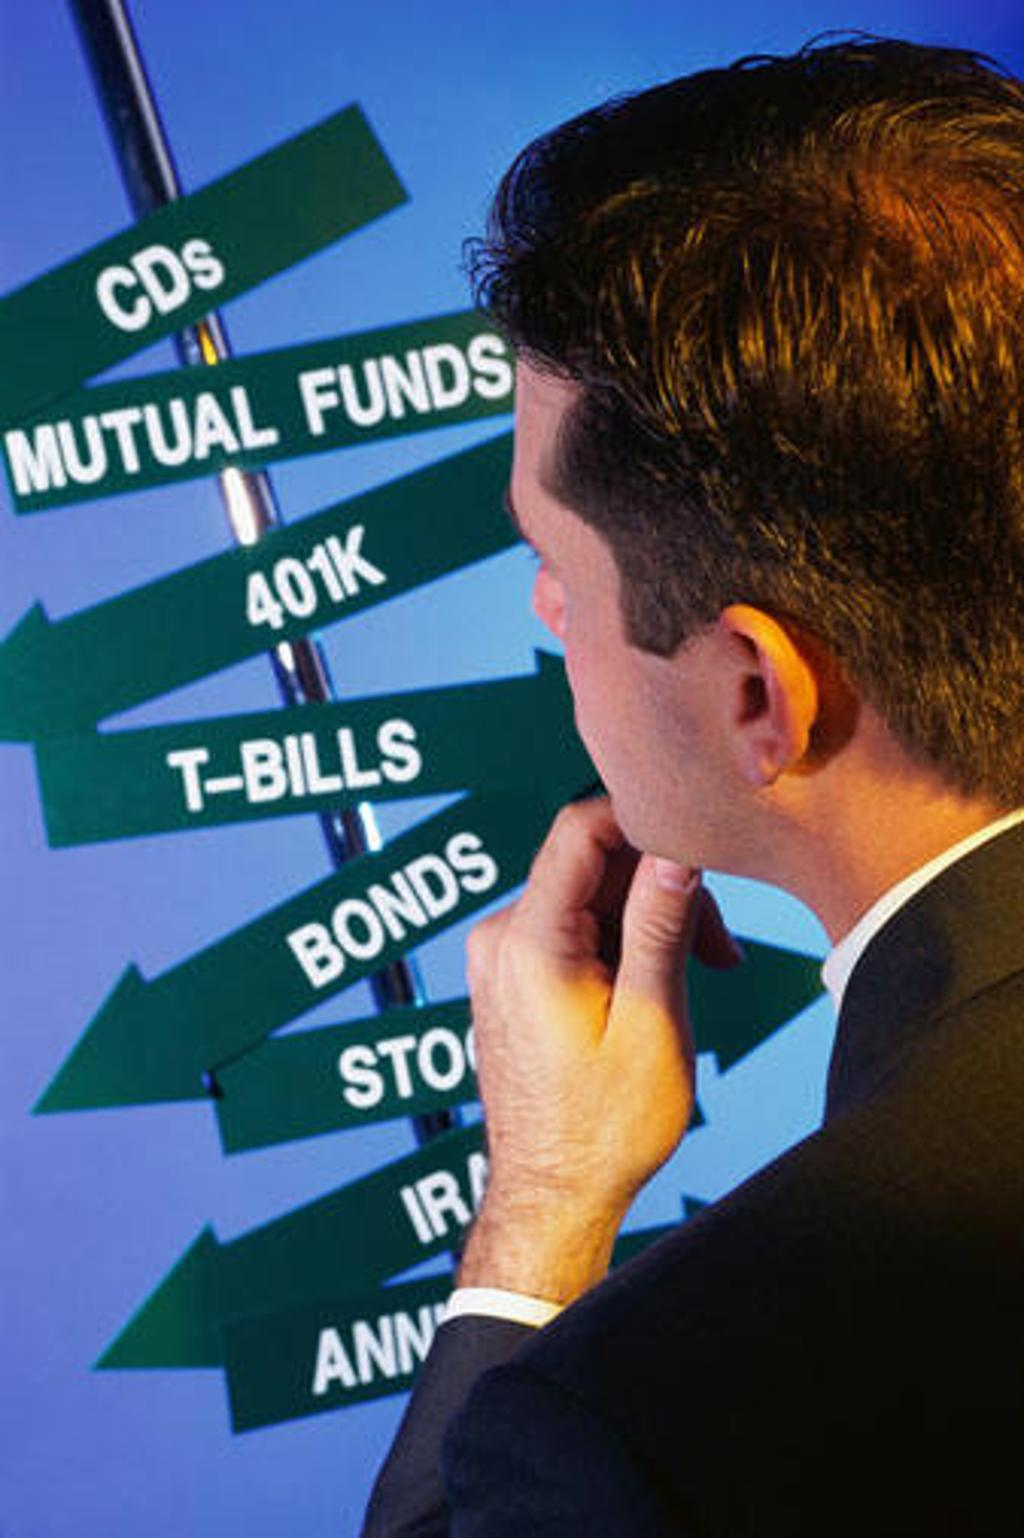face: (511, 355, 682, 853)
